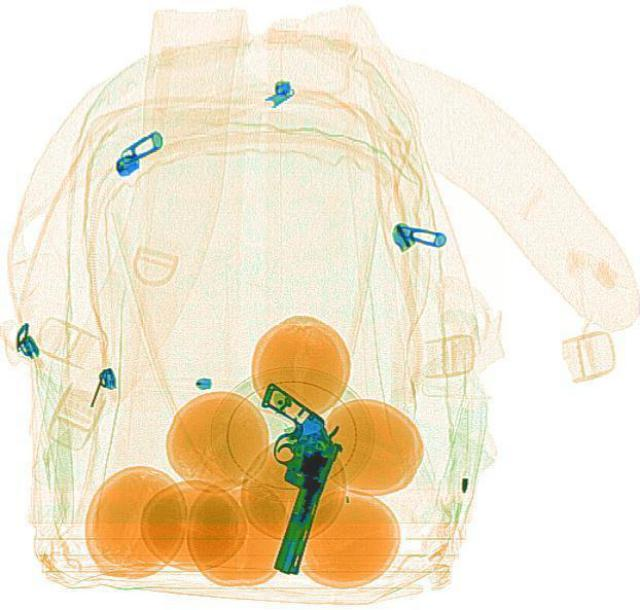Gun: (212, 377, 350, 574)
